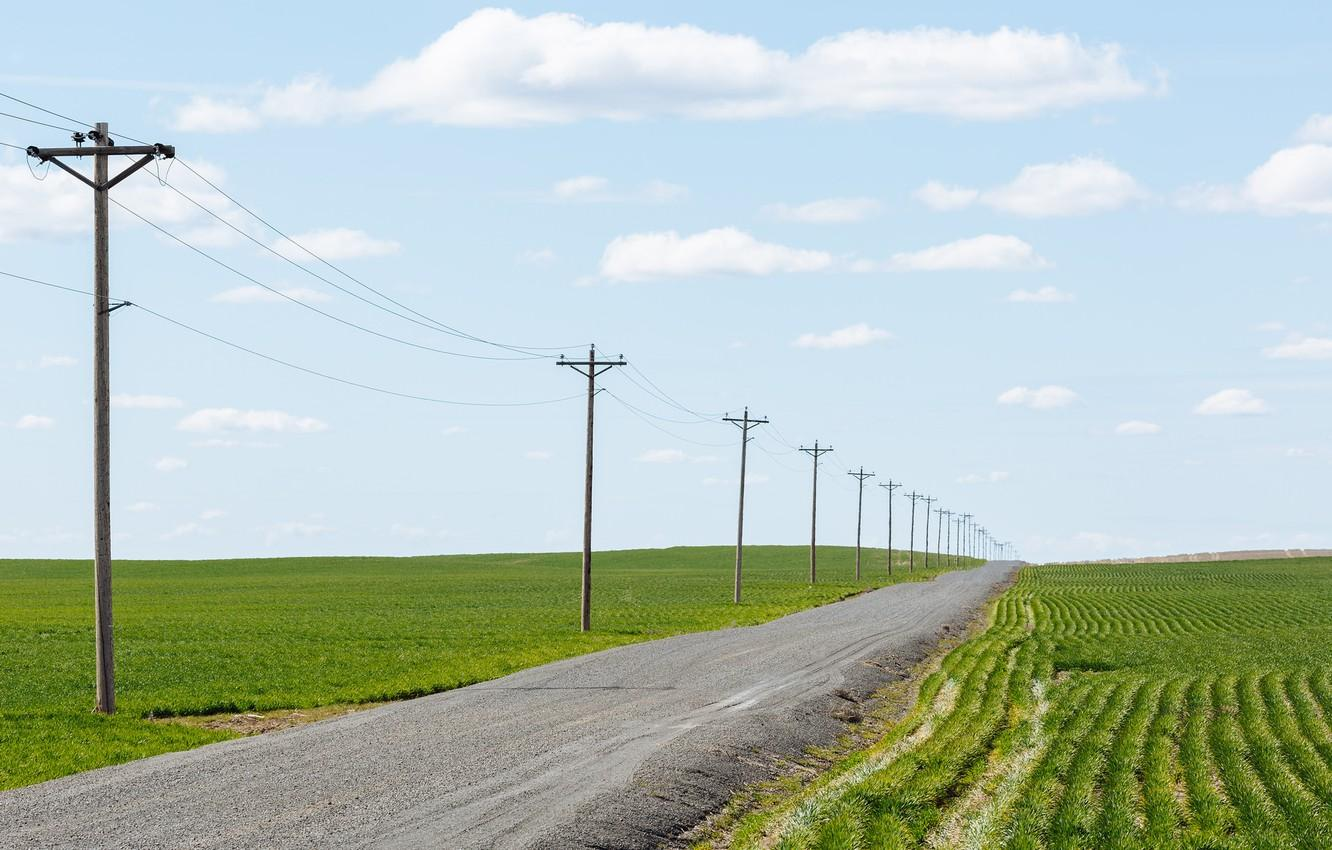Animal: (24, 110, 182, 709), (535, 324, 633, 635), (702, 392, 769, 607), (790, 424, 830, 595), (844, 462, 879, 577), (897, 484, 921, 576), (885, 472, 898, 587)
